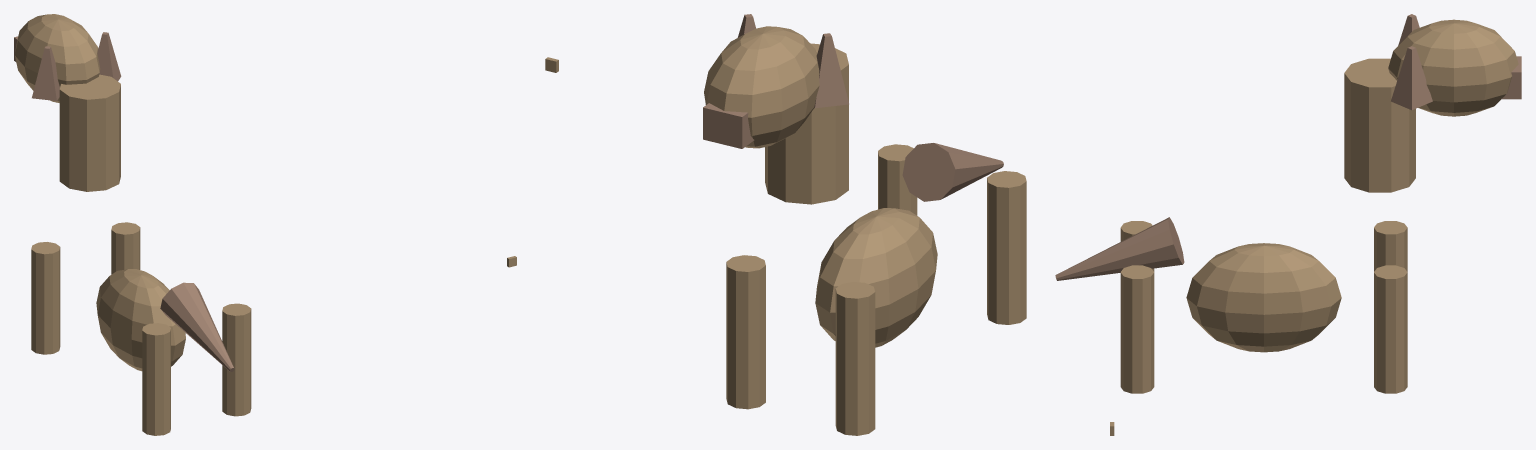
Rendered from argos.glb.
3 renders of one model, left to right at view 1: azimuth 30°, elevation 25°; view 2: azimuth 150°, elevation 25°; view 3: azimuth 270°, elevation 25°, orthographic. The views are drawn at different scales.
Parts seen in each view (by area): view 1: argos_neck, argos_body, argos_head, argos_leg_FL, argos_leg_BL, argos_leg_BR, argos_tail, argos_leg_FR, argos_telinga_l, argos_telinga_r; view 2: argos_body, argos_head, argos_neck, argos_leg_FL, argos_leg_FR, argos_leg_BL, argos_tail, argos_leg_BR, argos_mukon, argos_telinga_l; view 3: argos_body, argos_head, argos_neck, argos_leg_BR, argos_leg_FR, argos_tail, argos_telinga_r, argos_leg_FL, argos_mukon.
Part boxes in pixels (left/top/right/bottom): argos_neck: left=59, top=74, right=120, bottom=191; argos_body: left=96, top=269, right=185, bottom=371; argos_head: left=14, top=14, right=100, bottom=102; argos_leg_FL: left=31, top=242, right=60, bottom=354; argos_leg_BL: left=142, top=323, right=170, bottom=435; argos_leg_BR: left=222, top=303, right=251, bottom=416; argos_tail: left=160, top=282, right=234, bottom=371; argos_leg_FR: left=111, top=222, right=140, bottom=274; argos_telinga_l: left=32, top=46, right=59, bottom=100; argos_telinga_r: left=97, top=32, right=121, bottom=81; argos_body: left=815, top=208, right=937, bottom=347; argos_head: left=704, top=26, right=819, bottom=148; argos_neck: left=765, top=43, right=848, bottom=204; argos_leg_FL: left=835, top=281, right=875, bottom=435; argos_leg_FR: left=726, top=255, right=765, bottom=409; argos_leg_BL: left=987, top=171, right=1026, bottom=324; argos_tail: left=902, top=143, right=1003, bottom=201; argos_leg_BR: left=878, top=144, right=917, bottom=215; argos_mukon: left=703, top=103, right=754, bottom=148; argos_telinga_l: left=814, top=33, right=848, bottom=108; argos_body: left=1186, top=243, right=1341, bottom=352; argos_head: left=1388, top=19, right=1518, bottom=116; argos_neck: left=1344, top=58, right=1415, bottom=192; argos_leg_BR: left=1120, top=265, right=1154, bottom=393; argos_leg_FR: left=1374, top=265, right=1407, bottom=393; argos_tail: left=1055, top=217, right=1184, bottom=280; argos_telinga_r: left=1391, top=46, right=1432, bottom=110; argos_leg_FL: left=1374, top=221, right=1407, bottom=271; argos_mukon: left=1501, top=56, right=1521, bottom=99.
Size of the model in its own units: 2.25 by 1.78 by 2.21.
